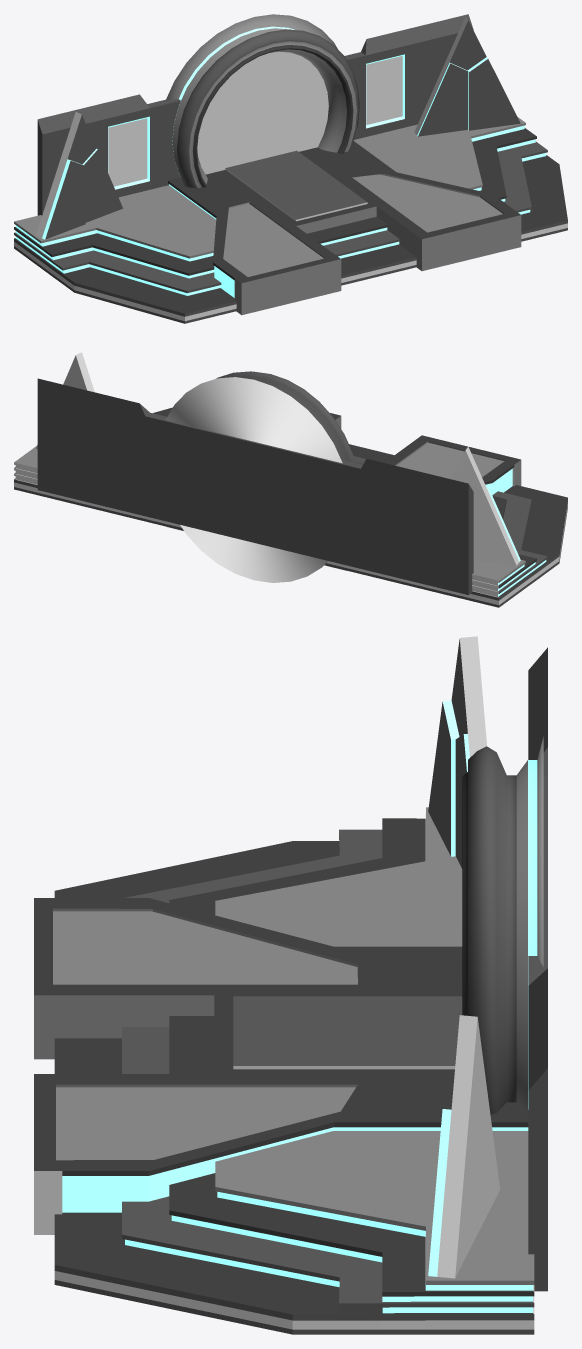
The model's file is stage.glb.
The picture shows the model from 3 angles, top to bottom: view 1: azimuth 30°, elevation 25°; view 2: azimuth 150°, elevation 25°; view 3: azimuth 270°, elevation 25°; orthographic projection. The views are drawn at different scales.
Visible parts, largest first — view 1: Plane_2, Plane.001_3, Cylinder_4, Cube_5, Cylinder.001_6; view 2: Cube_5, Cylinder_4, Plane_2, Cylinder.001_6, Plane.001_3; view 3: Plane_2, Plane.001_3, Cylinder_4, Cylinder.001_6, Cube_5.
Part boxes in pixels (x1,y1,x2,y2): Plane_2: (14, 117, 567, 323); Plane.001_3: (168, 141, 521, 315); Cylinder_4: (165, 14, 359, 188); Cube_5: (37, 14, 473, 215); Cylinder.001_6: (36, 17, 520, 239); Cube_5: (37, 378, 473, 594); Cylinder_4: (166, 371, 354, 582); Plane_2: (14, 407, 567, 607); Cylinder.001_6: (36, 352, 520, 565); Plane.001_3: (167, 413, 521, 570); Plane_2: (54, 807, 534, 1334); Plane.001_3: (34, 898, 528, 1234); Cylinder_4: (462, 736, 543, 1114); Cylinder.001_6: (428, 636, 499, 1278); Cube_5: (528, 647, 547, 1291).
Size of the model in its own units: 46.88 by 18.53 by 21.49.
